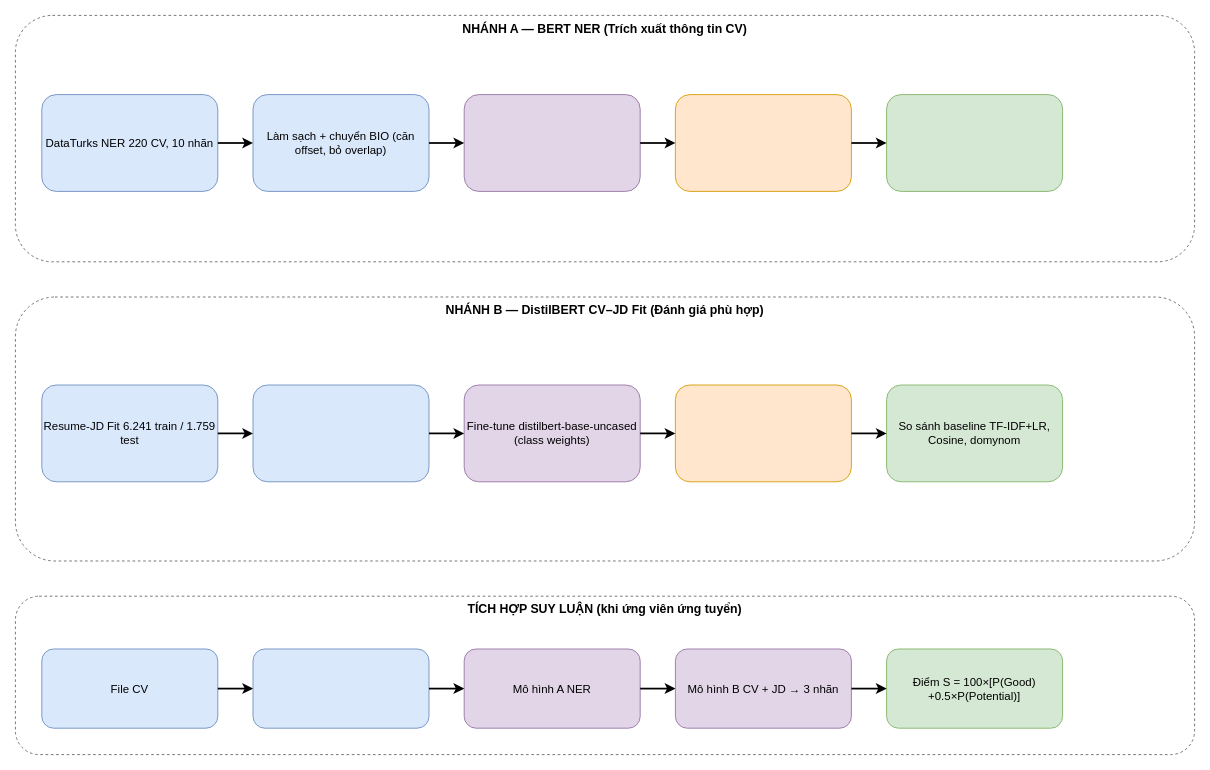
This 1210x770 diagram has some shape labels left out. The shapes that lost their labels are listed below. From the top down, each one's centre as x and y in pixels, then its label:
At point 551,142: "Fine-tune bert-base-cased (lr 2e-5, 5 epoch)".
At point 763,142: "Đánh giá Entity P / R / F1".
At point 974,142: "So sánh baseline spaCy NER".
At point 340,433: "Làm sạch (loại trùng, mâu thuẫn) Chia train / val".
At point 763,433: "Đánh giá Macro F1, Confusion Matrix, NDCG@5/10".
At point 340,688: "CV Parser (pdfplumber / python-docx)".
